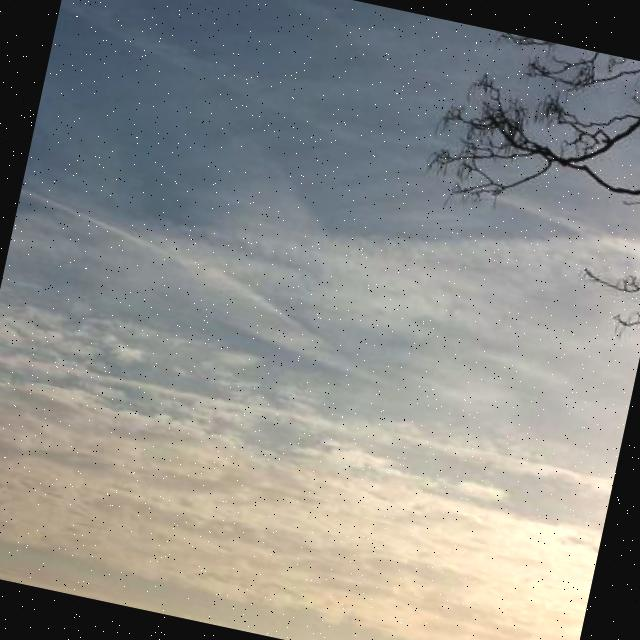Ct: (1, 169, 640, 640)
